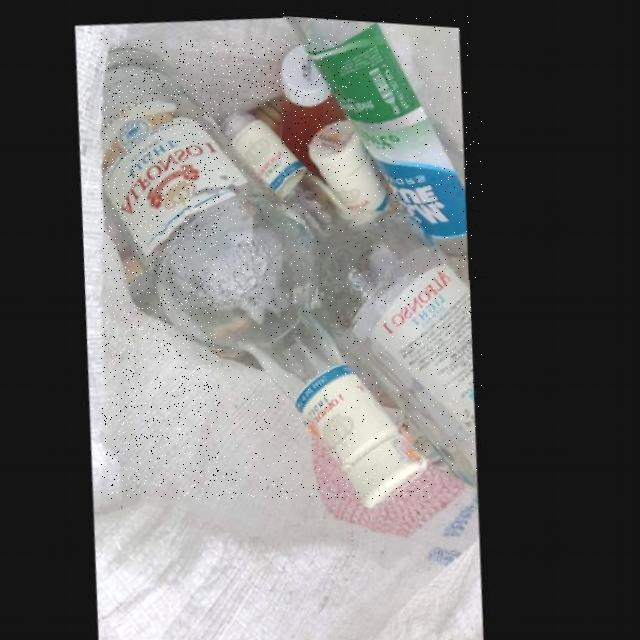glass: (102, 40, 432, 499), (220, 105, 483, 479), (283, 13, 472, 280), (282, 38, 346, 176)
